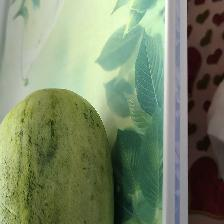gua: (21, 98, 94, 224)
